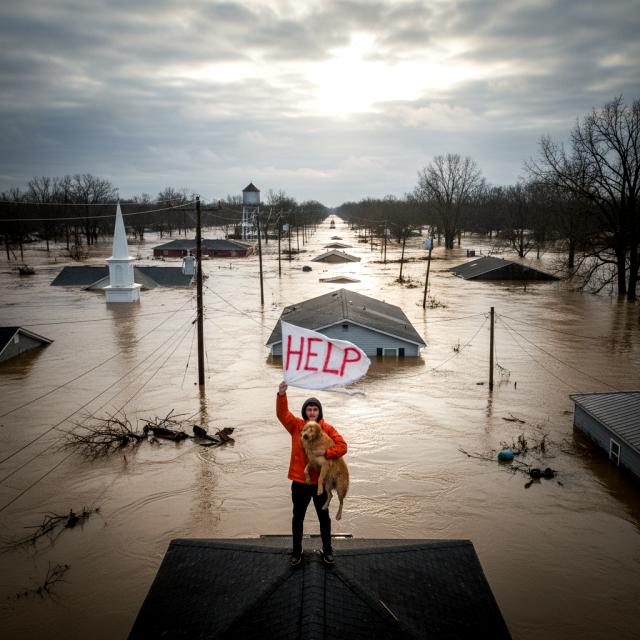civilian: (268, 375, 353, 569)
dog: (301, 415, 352, 528)
